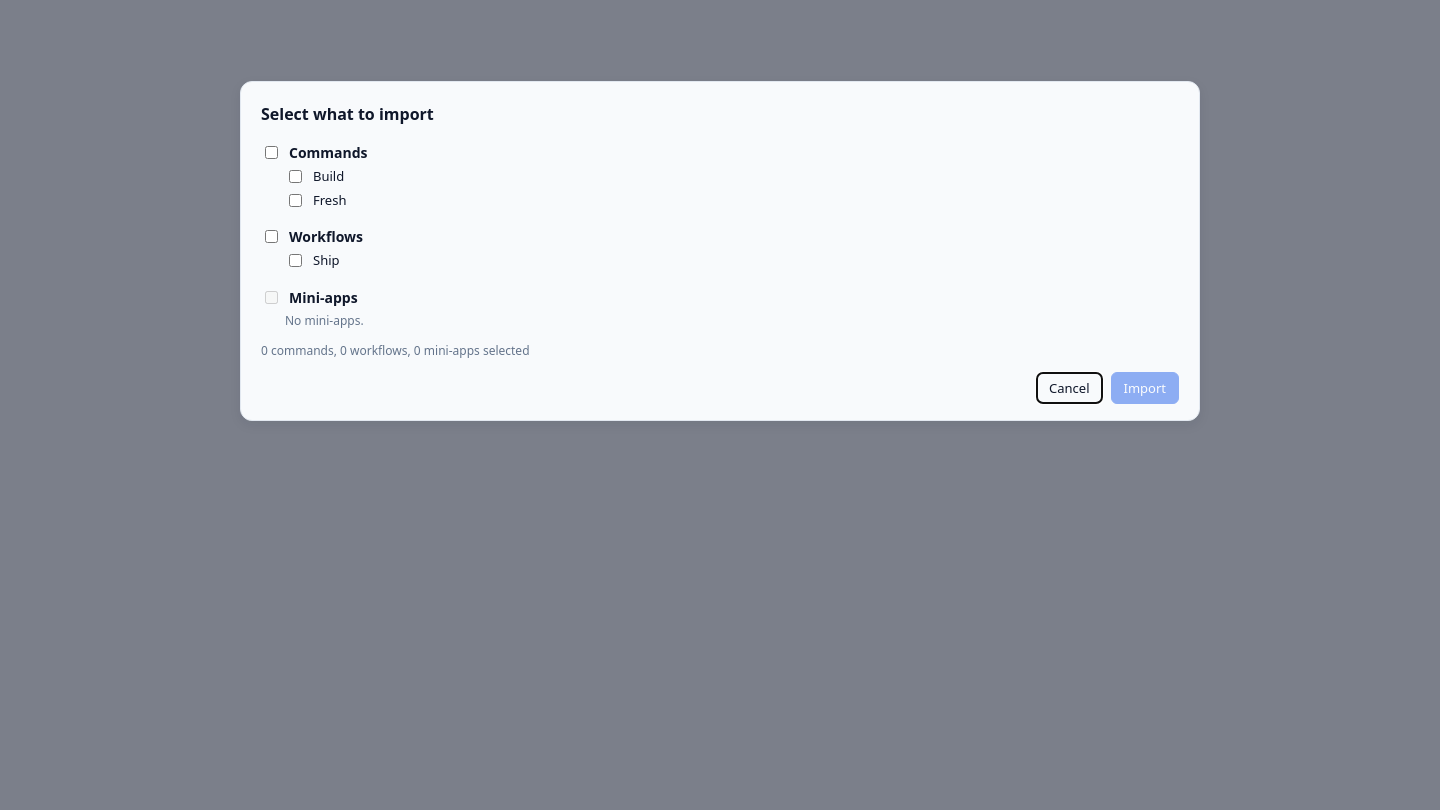
Scenario: ImportDialog › force-includes a workflow's command (shared selection logic)
Click the checkbox labelled "Ship".
click(296, 261)  # box [289,254,302,267]
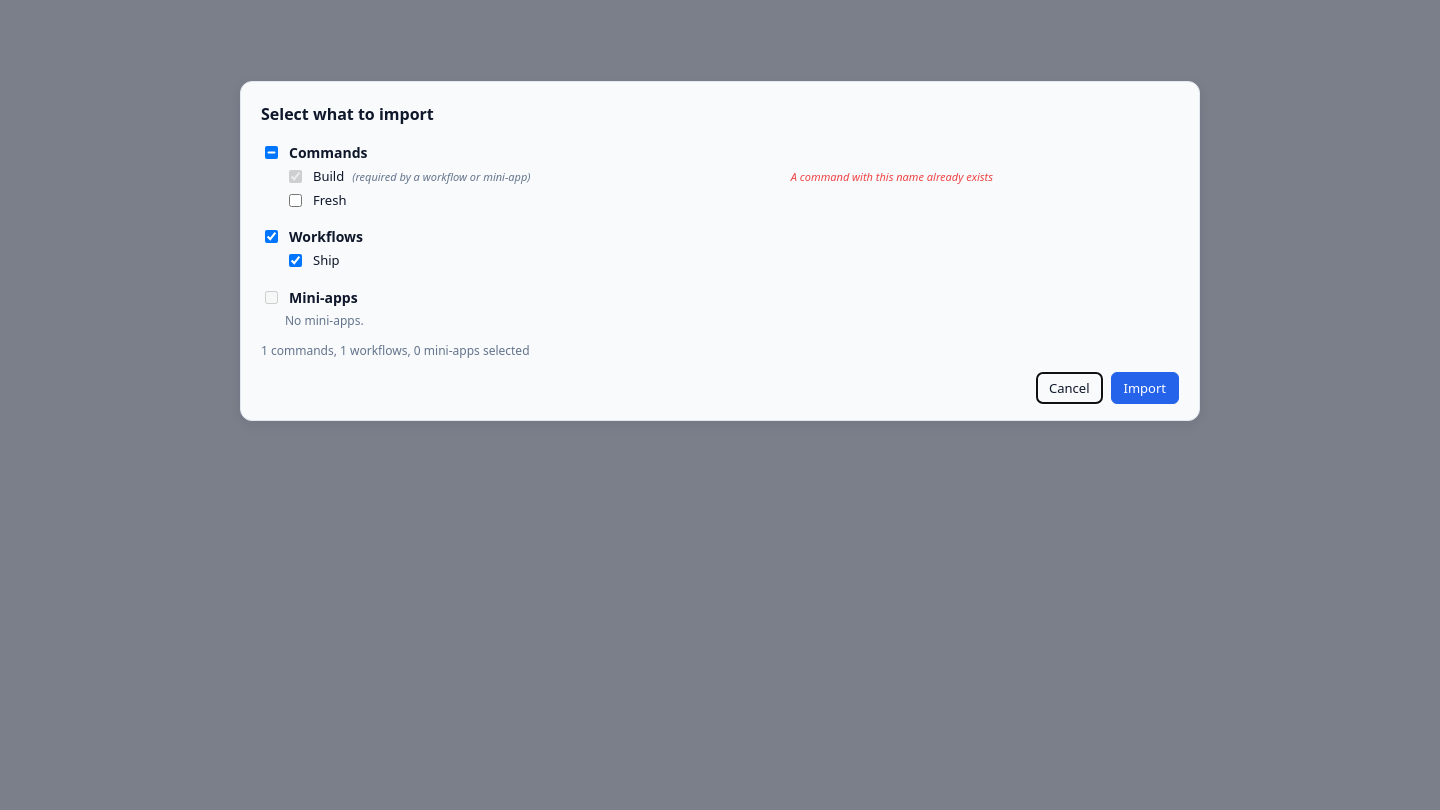
Check: the 2nd checkbox is checked, box [289,170,302,183]
Check: the 2nd checkbox is disabled, box [289,170,302,183]
